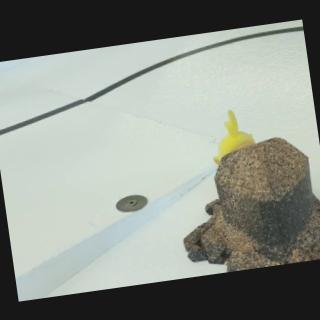teletubby: (213, 110, 254, 164)
